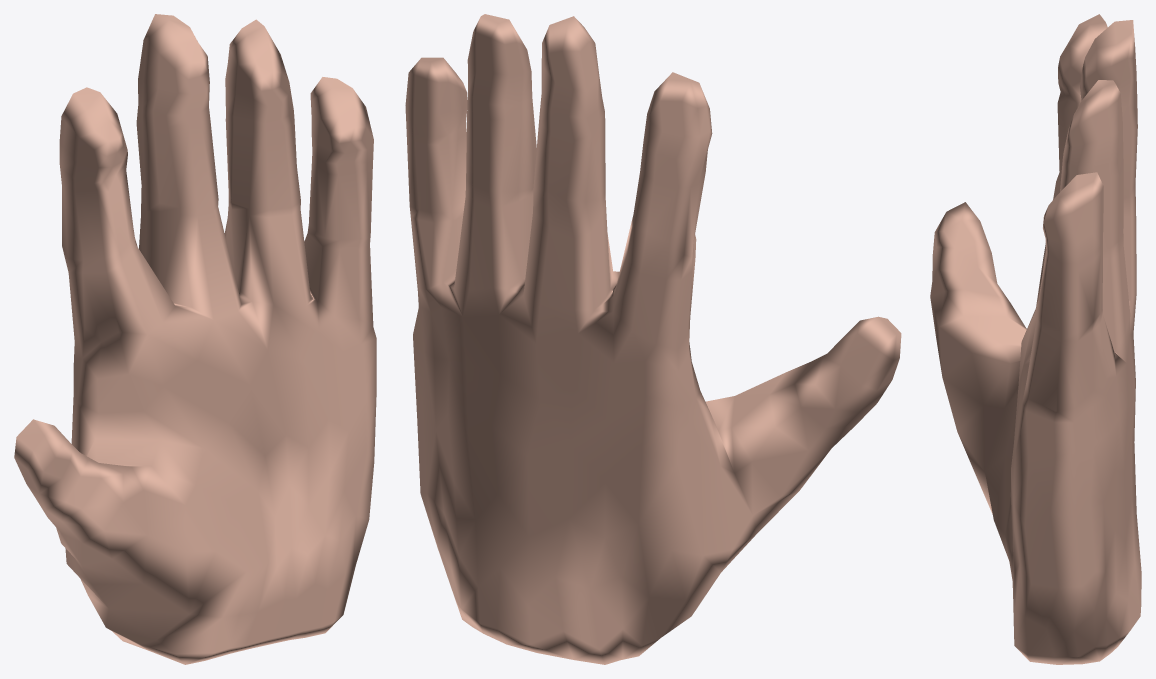
Rendered from MAO_5.obj.
3 views of the same model, side by side, from view 1: azimuth 30°, elevation 25°; view 2: azimuth 150°, elevation 25°; view 3: azimuth 270°, elevation 25° (orthographic). The views are drawn at different scales.
Parts seen in each view (by area): view 1: mao_dir polySurface1; view 2: mao_dir polySurface1; view 3: mao_dir polySurface1.
Boxes of the visible parts, x1,y1,x2,y2 form: mao_dir polySurface1: (14, 14, 376, 664); mao_dir polySurface1: (405, 14, 901, 664); mao_dir polySurface1: (930, 14, 1141, 664).
Bounding box in the file's own units: 170 × 243 × 79.1.
